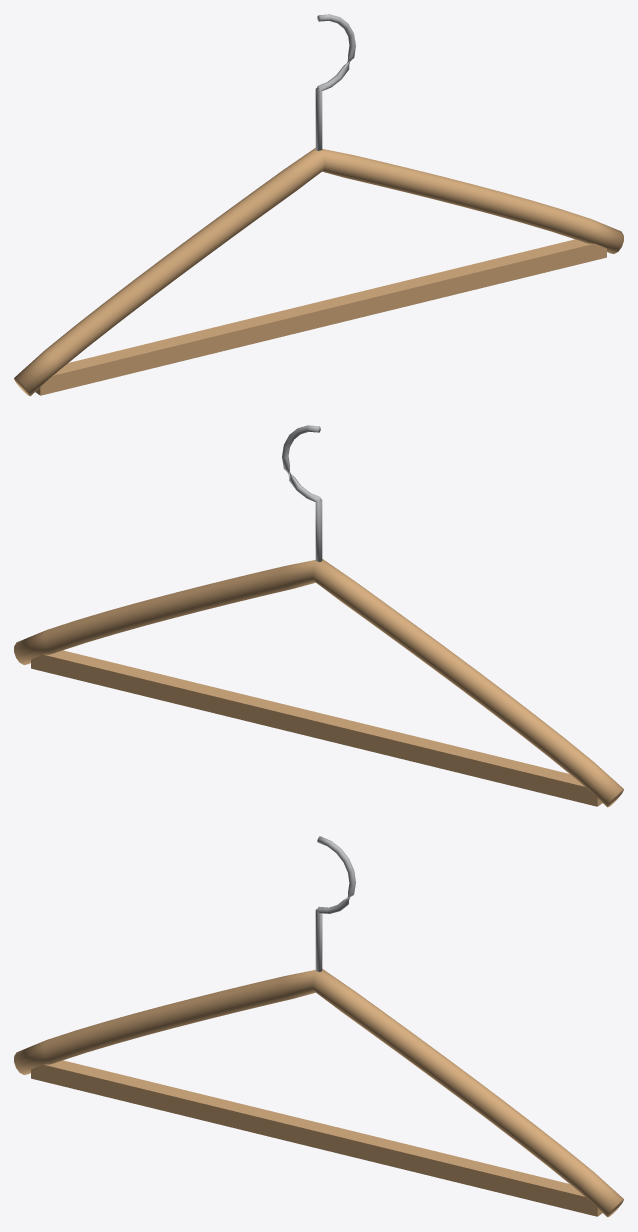
3 views of the same model, one above another, from view 1: azimuth 30°, elevation 25°; view 2: azimuth 150°, elevation 25°; view 3: azimuth 330°, elevation 25° (orthographic).
Visible parts, largest first — view 1: clothes-hanger-each; view 2: clothes-hanger-each; view 3: clothes-hanger-each.
Boxes of the visible parts, x1,y1,x2,y2 form: clothes-hanger-each: (14, 14, 623, 396); clothes-hanger-each: (14, 425, 623, 807); clothes-hanger-each: (14, 836, 623, 1217).
Size of the model in its own units: 0.4485 by 0.2189 by 0.016.
